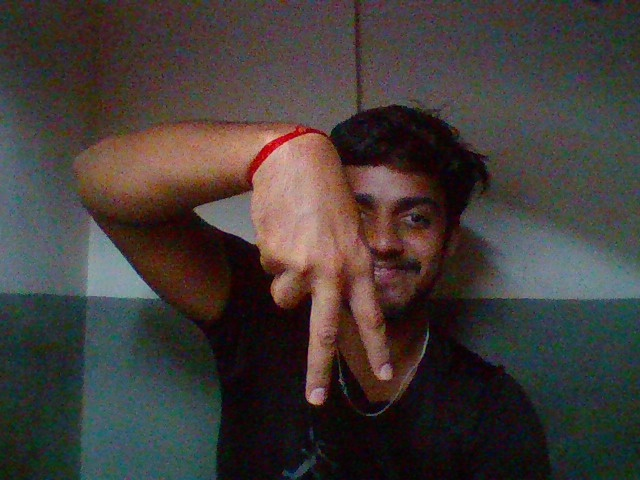N: (232, 120, 402, 413)
